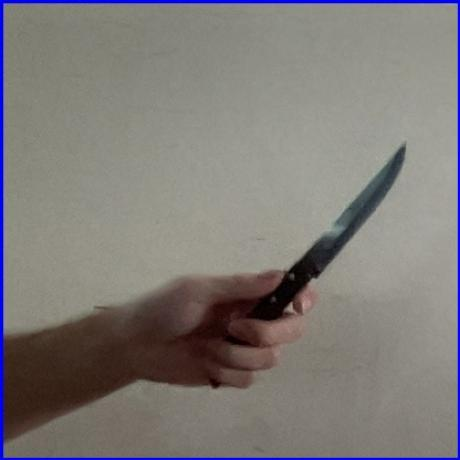1: (9, 267, 316, 449)
weapon: (210, 139, 409, 390)
